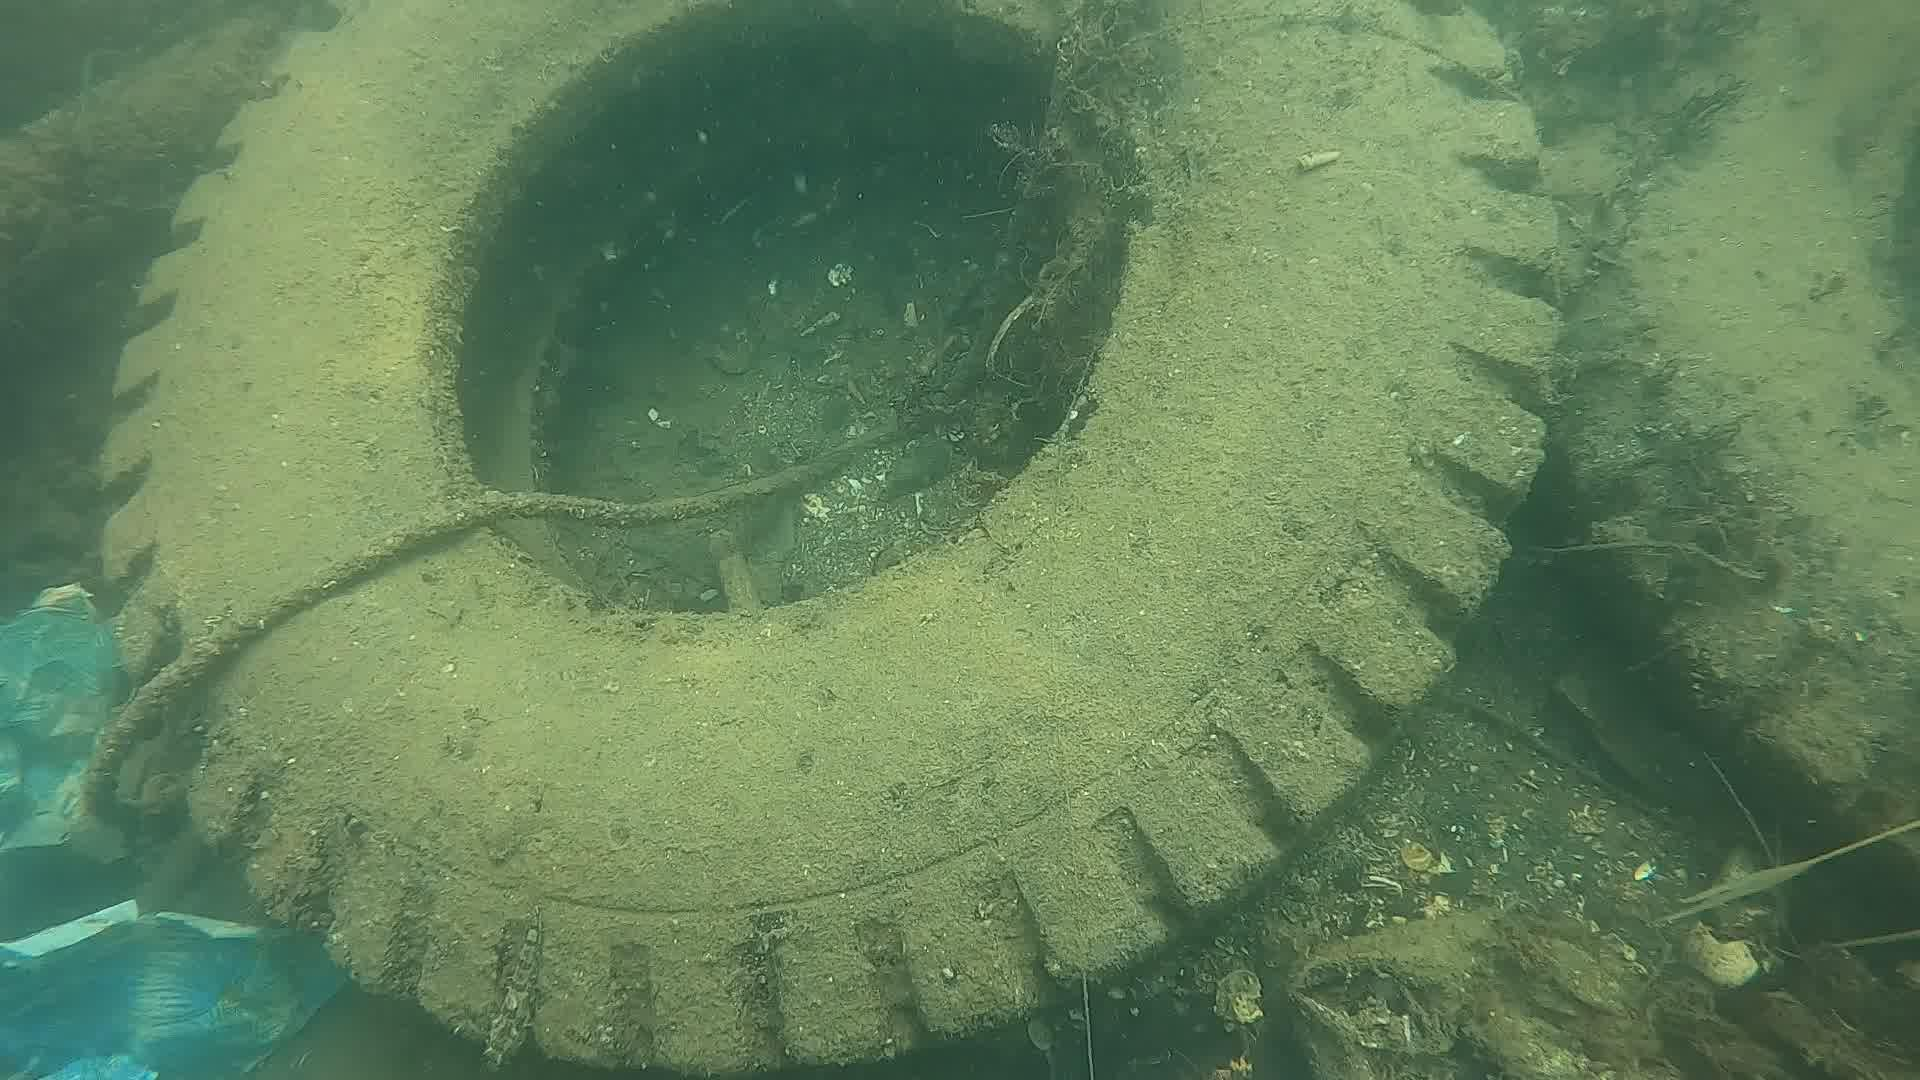rope: (75, 3, 1104, 847)
tire: (94, 0, 1563, 1068)
